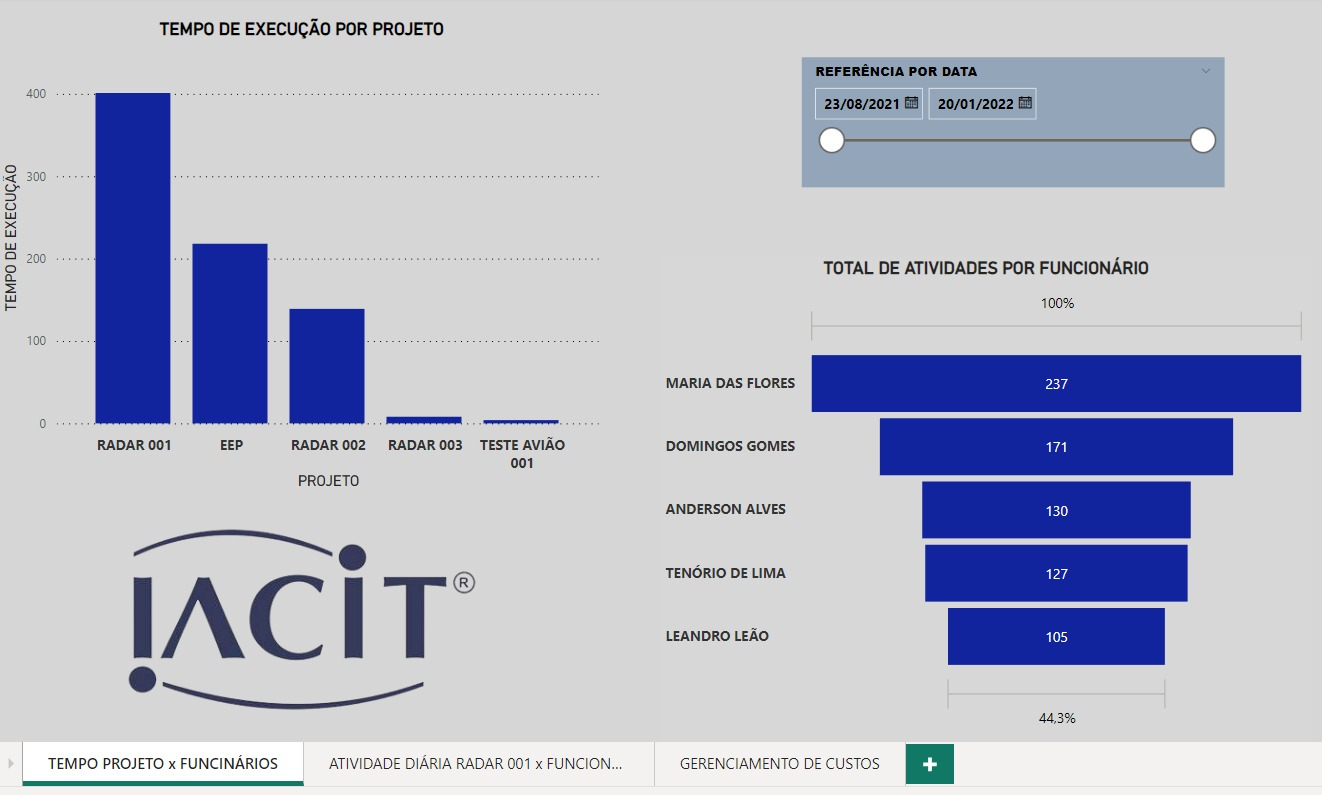

This screenshot's page, from the dashboard's own definition file:
{"tool":"powerbi","page":{"name":"TEMPO PROJETO x FUNCIONÁRIOS","canvas":[1280,720],"ordinal":0},"visuals":[{"type":"clusteredColumnChart","title":"TEMPO EXECUÇÃO POR PROJETO","fields":{"Category":["CONSOLIDADO ATIVIDADES.PROJETO"],"Y":["Sum(CONSOLIDADO ATIVIDADES.HORAS)"]},"box":[32.8,21.5,642.7,416.7],"z":0},{"type":"slicer","title":"REFERÊNCIA POR DATA","fields":{"Values":["CONSOLIDADO ATIVIDADES.MÊS"]},"box":[813.1,75.8,400.3,141.4],"z":1000},{"type":"image","box":[0,495.7,453.6,224.3],"z":2000},{"type":"funnel","title":"TOTAL DE ATIVIDADES POR FUNCIONÁRIO","fields":{"Category":["CONSOLIDADO ATIVIDADES.FUNCIONÁRIO"],"Y":["CountNonNull(CONSOLIDADO ATIVIDADES.PROJETO)"]},"box":[658,286.3,593.6,417.6],"z":3000}]}

Visuals, with their boxes on the page's 1280x720 design canvas (x1, y1, x2, y2). These are canvas units, not pixel positions in the 1322x795 screenshot, which may show the page scaled, cropped or inside an application window:
"TEMPO EXECUÇÃO POR PROJETO" clusteredColumnChart: <bbox>33, 22, 676, 438</bbox>
"REFERÊNCIA POR DATA" slicer: <bbox>813, 76, 1213, 217</bbox>
image: <bbox>0, 496, 454, 720</bbox>
"TOTAL DE ATIVIDADES POR FUNCIONÁRIO" funnel: <bbox>658, 286, 1252, 704</bbox>
